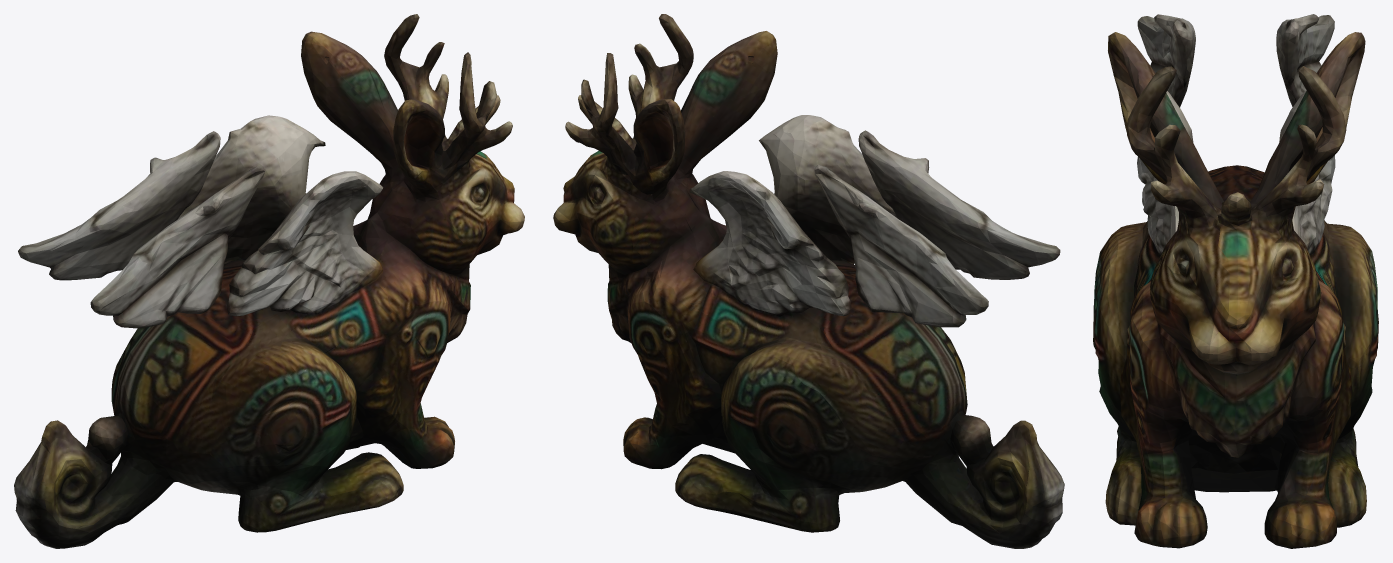
File: zephyrra.glb
The picture shows the model from 3 angles, left to right: view 1: azimuth 30°, elevation 25°; view 2: azimuth 150°, elevation 25°; view 3: azimuth 270°, elevation 25°; orthographic projection. The views are drawn at different scales.
Visible parts, largest first — view 1: world; view 2: world; view 3: world.
Part boxes in pixels (bbox=[...]): world: bbox=[14, 14, 524, 548]; world: bbox=[553, 14, 1064, 548]; world: bbox=[1093, 14, 1378, 548].
Bounding box in the file's own units: 0.9967 × 0.8126 × 0.3946.
Materials: 1 (1 with a texture image).
